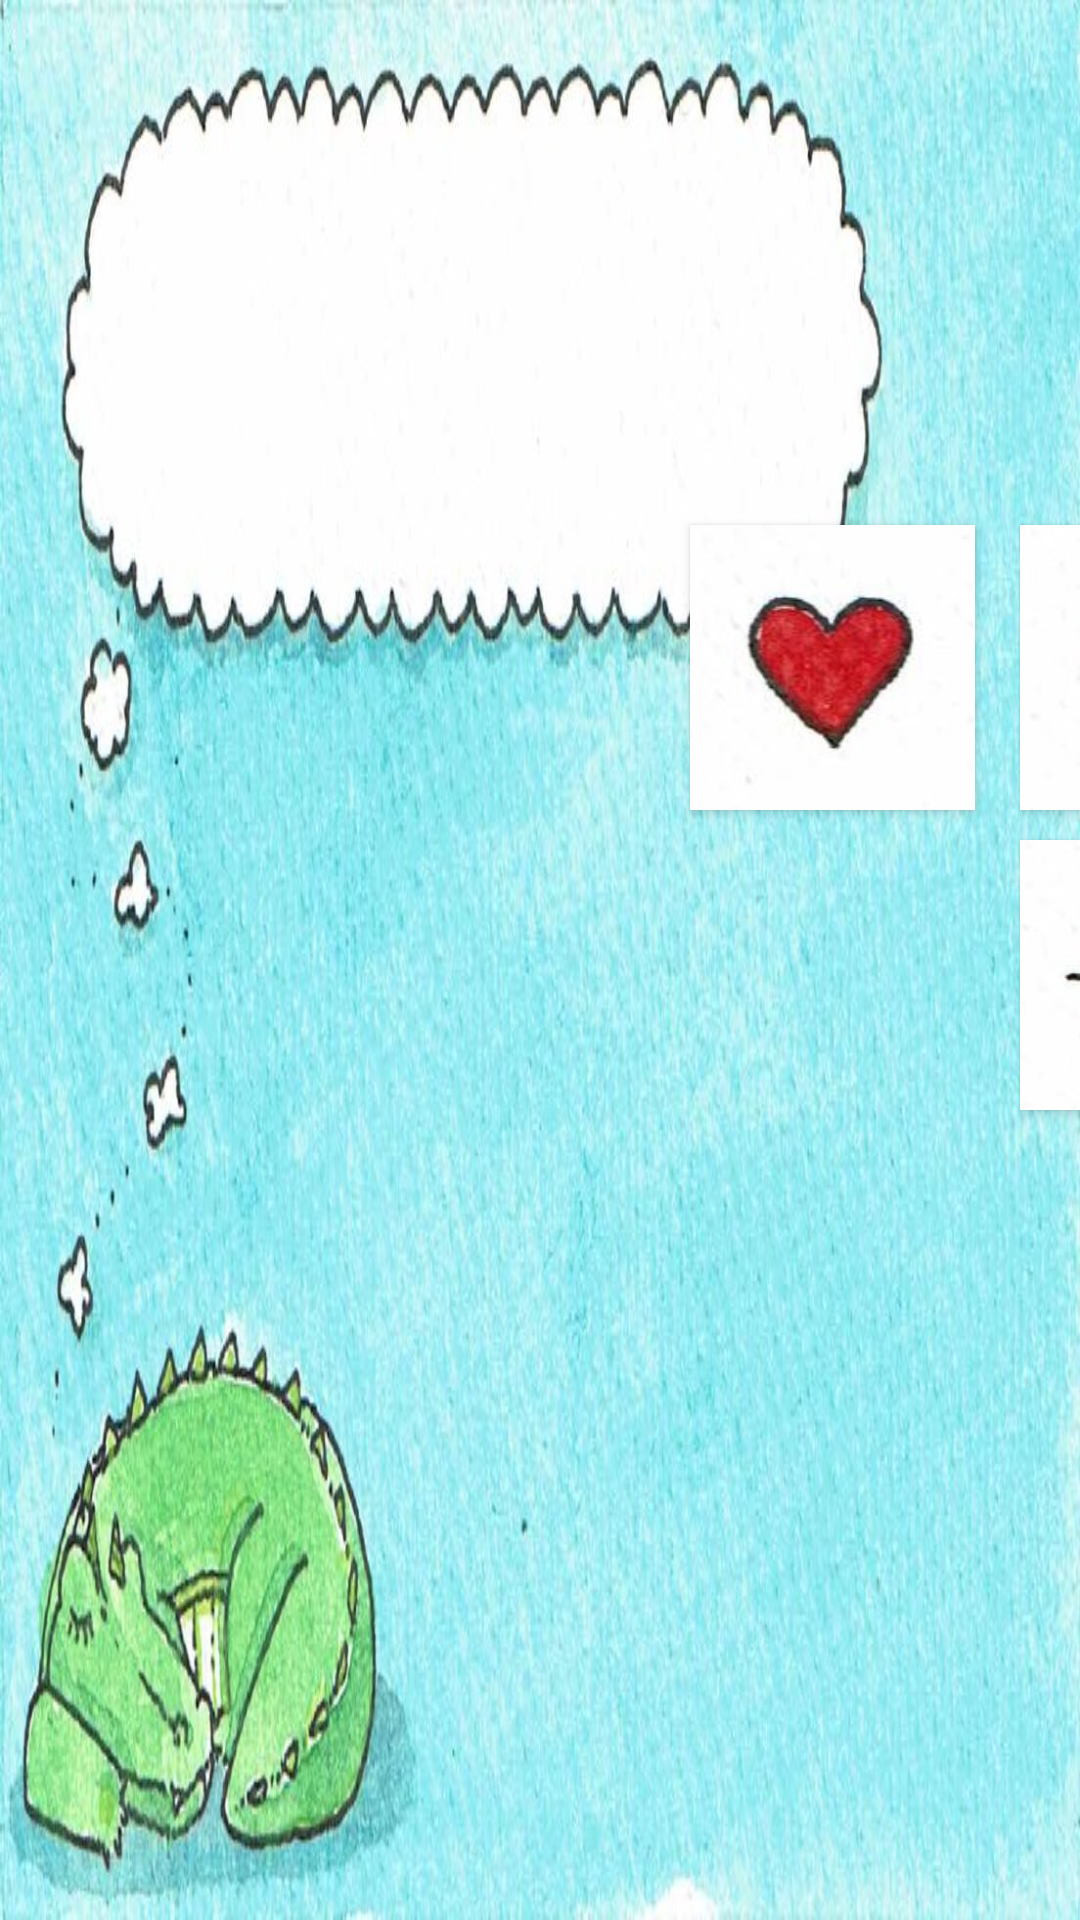

Named icons in this screenshot (1080x1920) and their centers, (x,y):
hjerte: (832,667)
